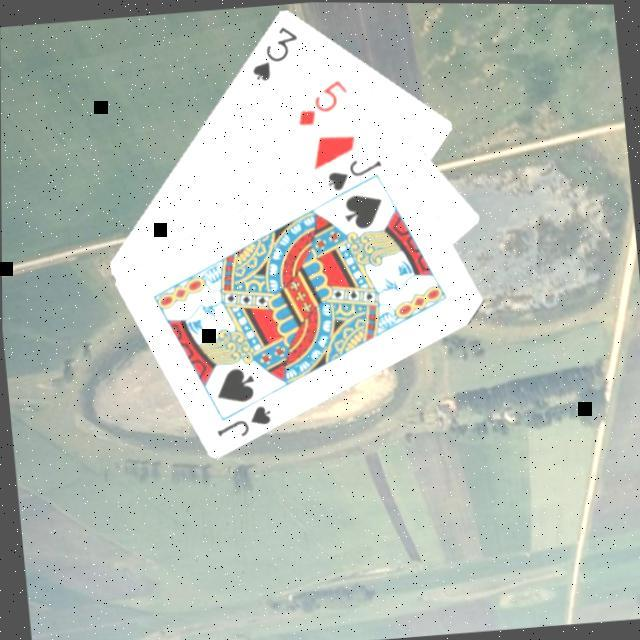3S: (246, 22, 306, 86)
5D: (292, 76, 354, 130)
JS: (212, 401, 278, 442), (324, 154, 388, 196)
